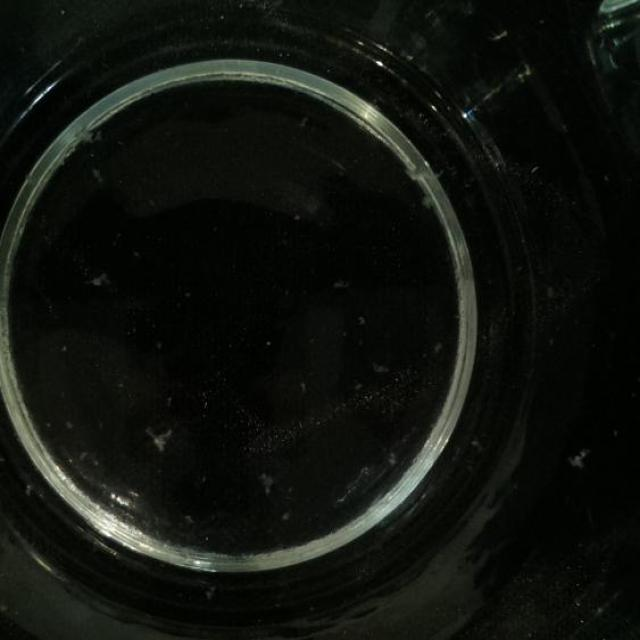fiber: (399, 157, 445, 210), (144, 418, 177, 456), (567, 437, 594, 476), (325, 264, 355, 293), (71, 125, 99, 156), (249, 467, 274, 495), (367, 356, 400, 377), (88, 162, 108, 194), (489, 22, 514, 46), (89, 263, 109, 288), (281, 504, 298, 530), (433, 338, 448, 357)
